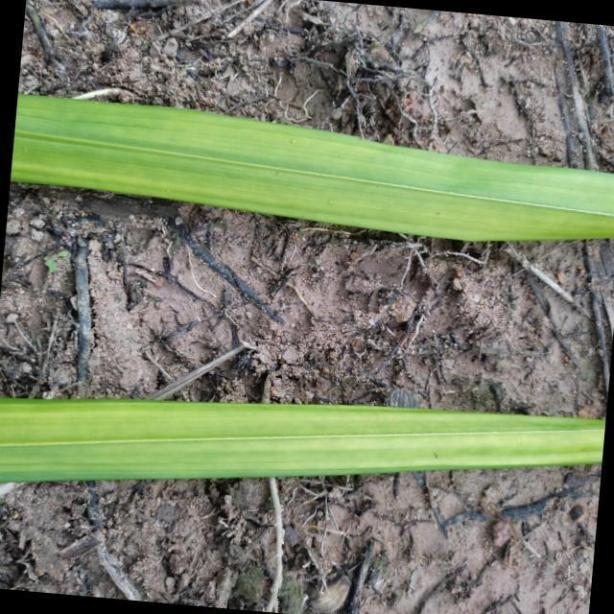nitrogen: (9, 94, 614, 238), (0, 396, 608, 480)
